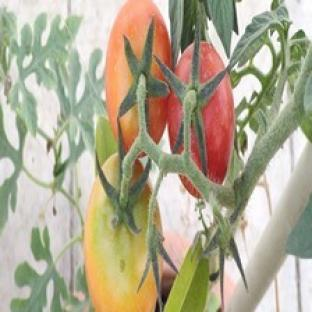Tomato: (84, 177, 157, 311), (202, 76, 235, 183)
